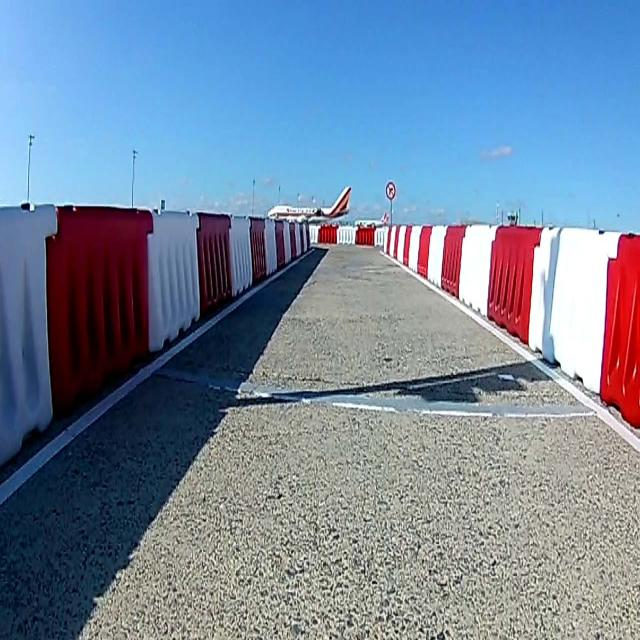sagadonulmez: (386, 182, 396, 199)
